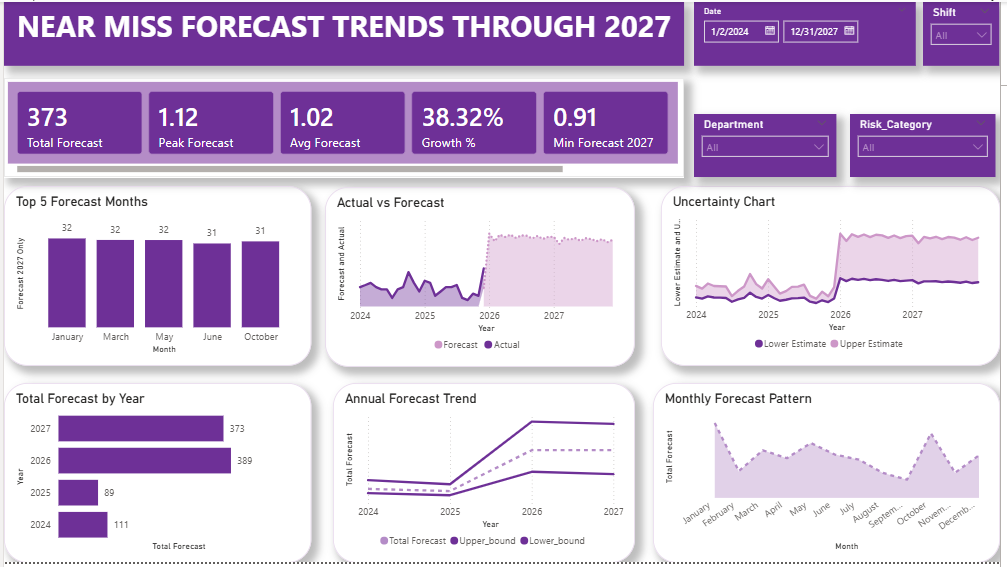

Layout of this report page (visuals, bound fields, positions):
{"tool":"powerbi","page":{"name":"Forecast","canvas":[1280,720],"ordinal":2},"visuals":[{"type":"textbox","box":[0,0,874,82.3],"z":0},{"type":"slicer","fields":{"Values":["forecast_2027.date"]},"box":[886.2,0,284.6,82.3],"z":1000},{"type":"cardVisual","fields":{"Data":["forecast_2027.Total Forecast Incidents","forecast_2027.Peak Forecast","forecast_2027.Min Forecast","forecast_2027.Forecast Growth","forecast_2027.Min Forecast 2027","forecast_2027.Forecast vs Latest Actual %"]},"box":[0,97.1,874,128.1],"z":2000},{"type":"lineChart","title":"Annual Forecast Trend","fields":{"Category":["forecast_2027.date.Variation.Date Hierarchy.Year","forecast_2027.date.Variation.Date Hierarchy.Quarter","forecast_2027.date.Variation.Date Hierarchy.Month","forecast_2027.date.Variation.Date Hierarchy.Day"],"Y":["CountNonNull(forecast_2027.Predicted_incidents)","Sum(forecast_2027.upper_bound)","Sum(forecast_2027.lower_bound)"]},"box":[422.2,489.6,388.5,230.6],"z":3000},{"type":"barChart","fields":{"Category":["forecast_2027.date.Variation.Date Hierarchy.Year"],"Y":["Sum(forecast_2027.Predicted_incidents)"]},"box":[0,489.6,395.2,230.6],"z":4000},{"type":"stackedAreaChart","title":"Actual vs Forecast ","fields":{"Category":["forecast_2027.date.Variation.Date Hierarchy.Year","forecast_2027.date.Variation.Date Hierarchy.Month"],"Y":["forecast_2027.Forecast Only","forecast_2027.Actual Only"]},"box":[412.7,237.4,397.9,230.6],"z":5000},{"type":"areaChart","title":"Monthly Forecast Pattern","fields":{"Category":["forecast_2027.date.Variation.Date Hierarchy.Month"],"Y":["Sum(forecast_2027.Predicted_incidents)"]},"box":[833.6,489.6,446.4,230.6],"z":6000},{"type":"columnChart","title":"Top 5 Forecast Months","fields":{"Category":["forecast_2027.date.Variation.Date Hierarchy.Month"],"Y":["forecast_2027.Forecast 2027 Only"]},"box":[0,236,395.2,230.6],"z":7000},{"type":"stackedAreaChart","title":"Uncertainty Chart","fields":{"Category":["forecast_2027.date.Variation.Date Hierarchy.Year","forecast_2027.date.Variation.Date Hierarchy.Quarter","forecast_2027.date.Variation.Date Hierarchy.Month"],"Y":["Sum(forecast_2027.lower_bound)","CountNonNull(forecast_2027.upper_bound)"]},"box":[844.3,236,435.7,230.6],"z":8000},{"type":"slicer","fields":{"Values":["clean_near_miss.department"]},"box":[886.2,144.3,183.4,80.9],"z":9000},{"type":"slicer","fields":{"Values":["clean_near_miss.risk_category"]},"box":[1087.1,144.3,187.5,80.9],"z":10000},{"type":"slicer","fields":{"Values":["clean_near_miss.shift"]},"box":[1181.5,0,98.5,82.3],"z":11000}]}

Visuals, with their boxes in screenshot pixels (x1, y1, x2, y2), scaled from the page's 1280x720 canvas onto the 1007x567 screenshot:
textbox: (x1=0, y1=0, x2=688, y2=65)
slicer - forecast_2027.date: (x1=697, y1=0, x2=921, y2=65)
cardVisual - forecast_2027.Total Forecast Incidents x forecast_2027.Peak Forecast: (x1=0, y1=76, x2=688, y2=177)
"Annual Forecast Trend" lineChart: (x1=332, y1=386, x2=638, y2=566)
barChart - forecast_2027.date.Variation.Date Hierarchy.Year x Sum(forecast_2027.Predicted_incidents): (x1=0, y1=386, x2=311, y2=566)
"Actual vs Forecast " stackedAreaChart: (x1=325, y1=187, x2=638, y2=369)
"Monthly Forecast Pattern" areaChart: (x1=656, y1=386, x2=1006, y2=566)
"Top 5 Forecast Months" columnChart: (x1=0, y1=186, x2=311, y2=367)
"Uncertainty Chart" stackedAreaChart: (x1=664, y1=186, x2=1006, y2=367)
slicer - clean_near_miss.department: (x1=697, y1=114, x2=841, y2=177)
slicer - clean_near_miss.risk_category: (x1=855, y1=114, x2=1003, y2=177)
slicer - clean_near_miss.shift: (x1=930, y1=0, x2=1006, y2=65)
